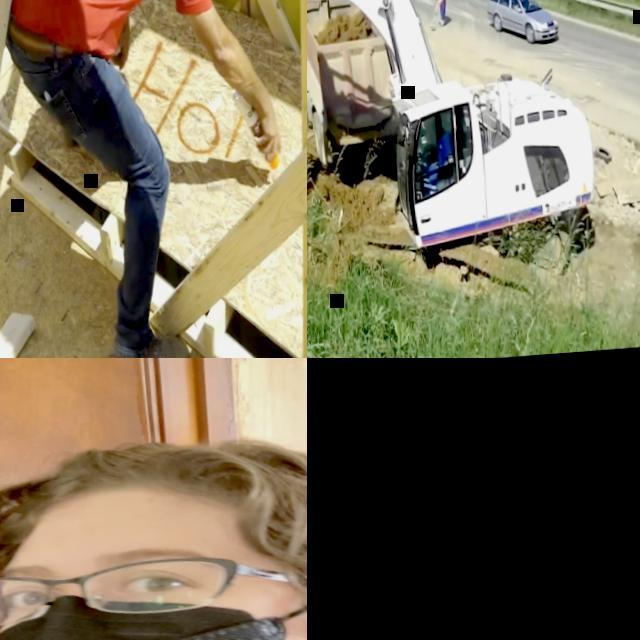machinery: (307, 0, 604, 341), (307, 0, 397, 174)
mask: (0, 576, 307, 640)
no_helmet: (0, 420, 307, 552)
no_vest: (0, 0, 180, 60), (435, 139, 449, 161)
person: (0, 0, 298, 358), (0, 407, 307, 640), (421, 125, 454, 182), (429, 0, 446, 27)
vehicle: (483, 0, 558, 49)
